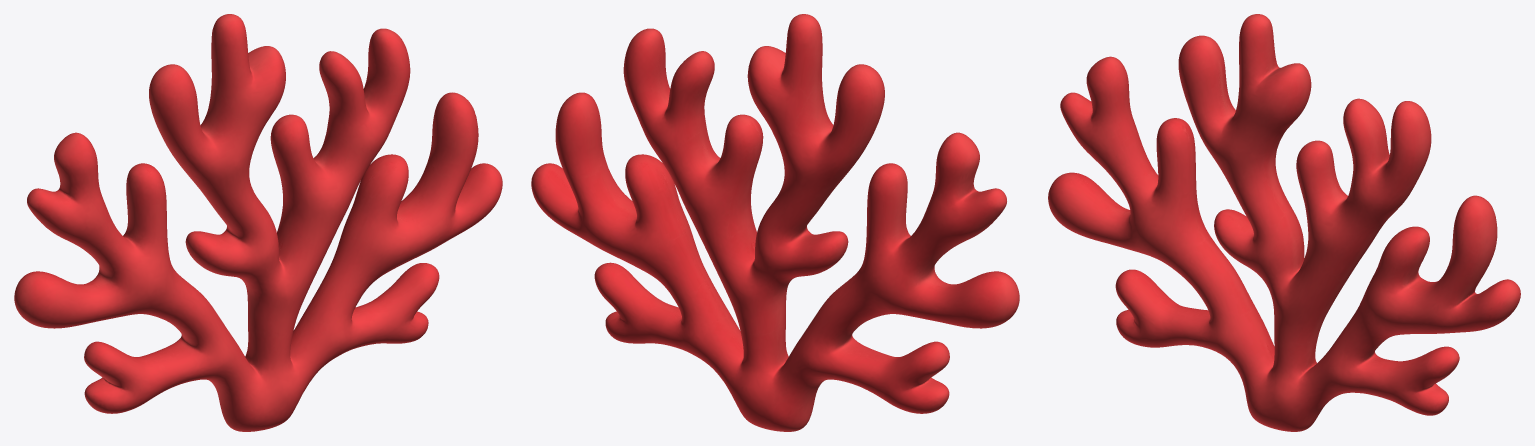
File: Corallo.glb
3 views of the same model, side by side, from view 1: azimuth 30°, elevation 25°; view 2: azimuth 150°, elevation 25°; view 3: azimuth 330°, elevation 25° (orthographic). The views are drawn at different scales.
Size of the model in its own units: 1.9 by 1.58 by 0.2367.
Materials: 1 (1 with a texture image).
